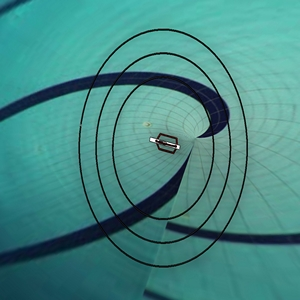circle: (52, 16, 275, 276)
submarine: (143, 123, 187, 168)
